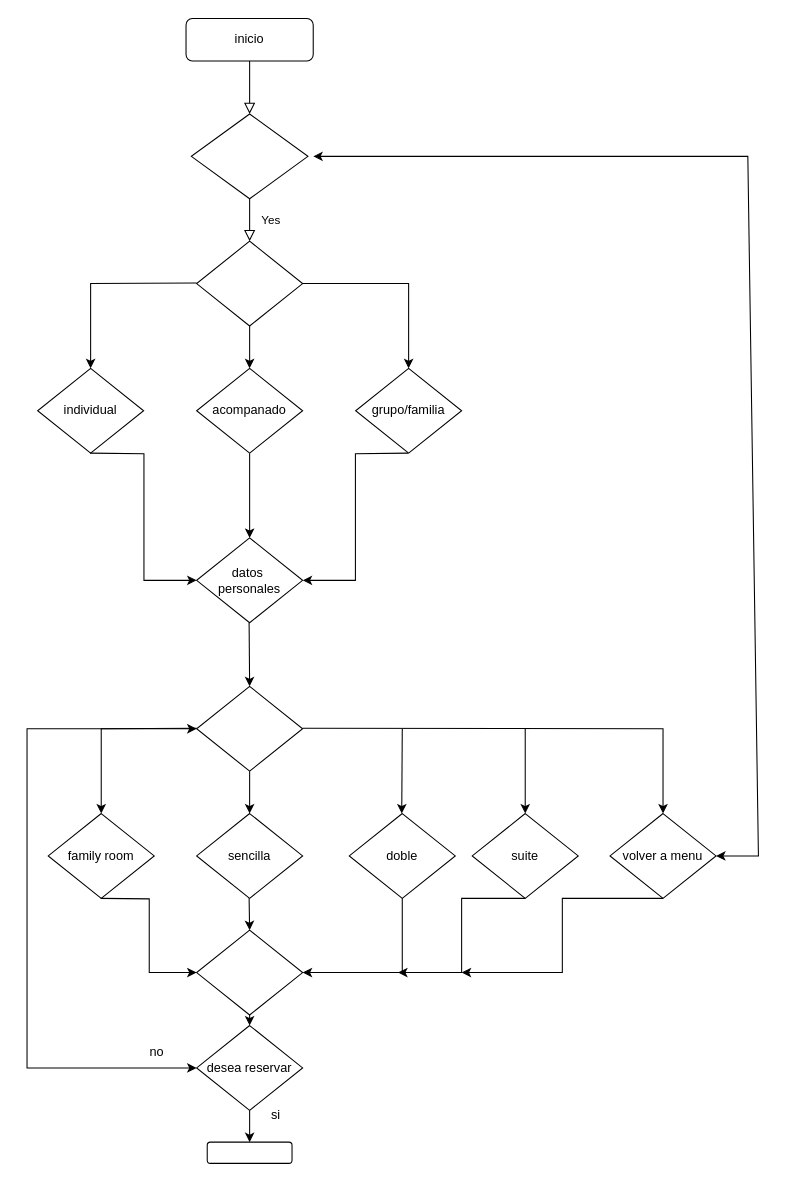
Some shapes in this 787 by 1182 pixel diagram are drawn without their labels. Each missing label, with the centre of its shape:
"Fin" belongs at pixel 249 1152.
"mostrar menu principal" belongs at pixel 249 156.
"nuevo cliente" belongs at pixel 249 283.
"recursos de la habitacion" belongs at pixel 249 972.
"reservación por habitacion" belongs at pixel 249 728.
